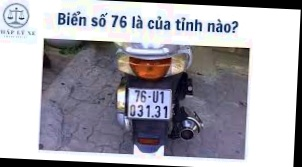Bien-so: (126, 86, 175, 120)
